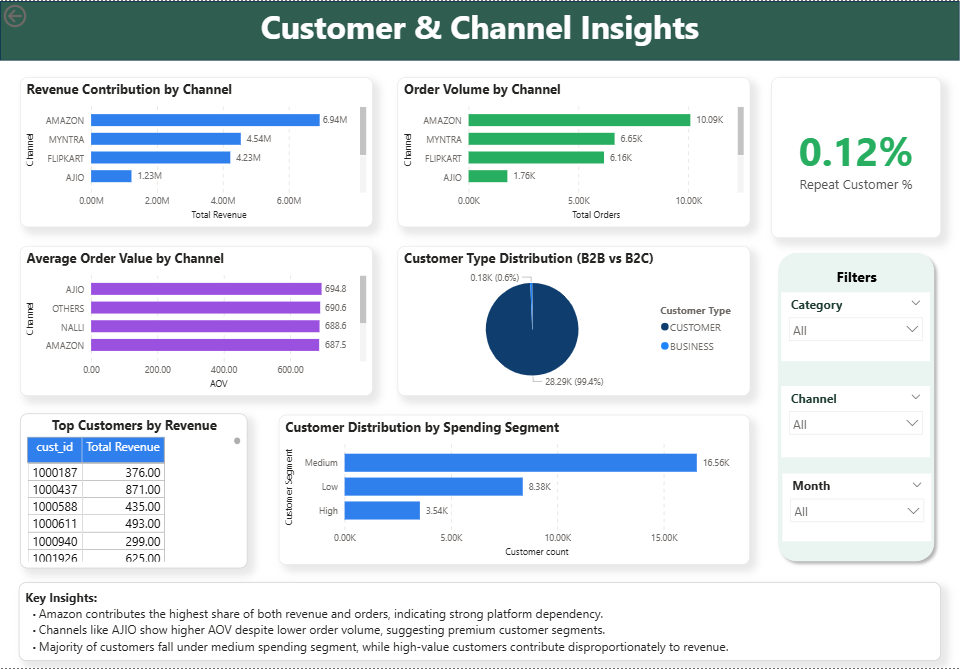

What the dashboard file says about the page in this screenshot:
{"tool":"powerbi","page":{"name":"Customer & Channel Insights","canvas":[1280,890],"ordinal":2},"visuals":[{"type":"shape","box":[0,0,1279.5,79.5],"z":0},{"type":"textbox","box":[0,0,1279.5,89.7],"z":1000},{"type":"actionButton","box":[0,0,100,40],"z":2000},{"type":"shape","box":[1028.1,326.6,226.6,429.7],"z":3000},{"type":"slicer","fields":{"Values":["supply_chain orders.category"]},"box":[1042.2,387.5,198.4,92.2],"z":4000},{"type":"slicer","fields":{"Values":["supply_chain orders.channel"]},"box":[1042.2,512.5,198.4,95.3],"z":5000},{"type":"slicer","fields":{"Values":["supply_chain orders.month"]},"box":[1043.8,629.7,198.4,90.6],"z":6000},{"type":"clusteredBarChart","title":"Revenue Contribution by Channel","fields":{"Y":["supply_chain orders.Total Revenue"],"Category":["supply_chain orders.channel"]},"box":[26.2,101.6,470.5,200],"z":7000},{"type":"textbox","box":[24.6,775.4,1229.5,104.9],"z":8000},{"type":"clusteredBarChart","title":"Average Order Value by Channel","fields":{"Y":["supply_chain orders.AOV"],"Category":["supply_chain orders.channel"]},"box":[26.2,326.2,470.5,200],"z":9000},{"type":"pieChart","title":"Customer Type Distribution (B2B vs B2C)","fields":{"Category":["supply_chain orders.cust_type"],"Y":["CountNonNull(supply_chain orders.cust_id)"]},"box":[529.5,326.2,470.5,200],"z":10000},{"type":"textbox","box":[1060.9,350,160.9,37.5],"z":11000},{"type":"clusteredBarChart","title":"Customer Distribution by Spending Segment","fields":{"Y":["CountNonNull(supply_chain orders.cust_id)"],"Category":["supply_chain orders.Customer Segment"]},"box":[372.1,552.5,627.9,200],"z":12000},{"type":"card","fields":{"Values":["supply_chain orders.Repeat Customer %"]},"box":[1027.9,101.6,226.2,214.8],"z":13000},{"type":"clusteredBarChart","title":"Order Volume by Channel","fields":{"Y":["supply_chain orders.Total Orders"],"Category":["supply_chain orders.channel"]},"box":[529.5,101.6,470.5,200],"z":14000},{"type":"tableEx","title":"Top Customers by Revenue","fields":{"Values":["supply_chain orders.cust_id","supply_chain orders.Total Revenue"]},"box":[26.2,549.2,303.3,206.6],"z":15000}]}

Visuals, with their boxes in screenshot pixels (x1, y1, x2, y2), scaled from the page's 1280x890 canvas onto the 960x669 screenshot:
shape: box=[0, 0, 959, 60]
textbox: box=[0, 0, 959, 67]
actionButton: box=[0, 0, 75, 30]
shape: box=[771, 246, 941, 568]
slicer - supply_chain orders.category: box=[782, 291, 930, 361]
slicer - supply_chain orders.channel: box=[782, 385, 930, 457]
slicer - supply_chain orders.month: box=[783, 473, 932, 541]
"Revenue Contribution by Channel" clusteredBarChart: box=[20, 76, 373, 227]
textbox: box=[18, 583, 941, 662]
"Average Order Value by Channel" clusteredBarChart: box=[20, 245, 373, 396]
"Customer Type Distribution (B2B vs B2C)" pieChart: box=[397, 245, 750, 396]
textbox: box=[796, 263, 916, 291]
"Customer Distribution by Spending Segment" clusteredBarChart: box=[279, 415, 750, 566]
card - supply_chain orders.Repeat Customer %: box=[771, 76, 941, 238]
"Order Volume by Channel" clusteredBarChart: box=[397, 76, 750, 227]
"Top Customers by Revenue" tableEx: box=[20, 413, 247, 568]
